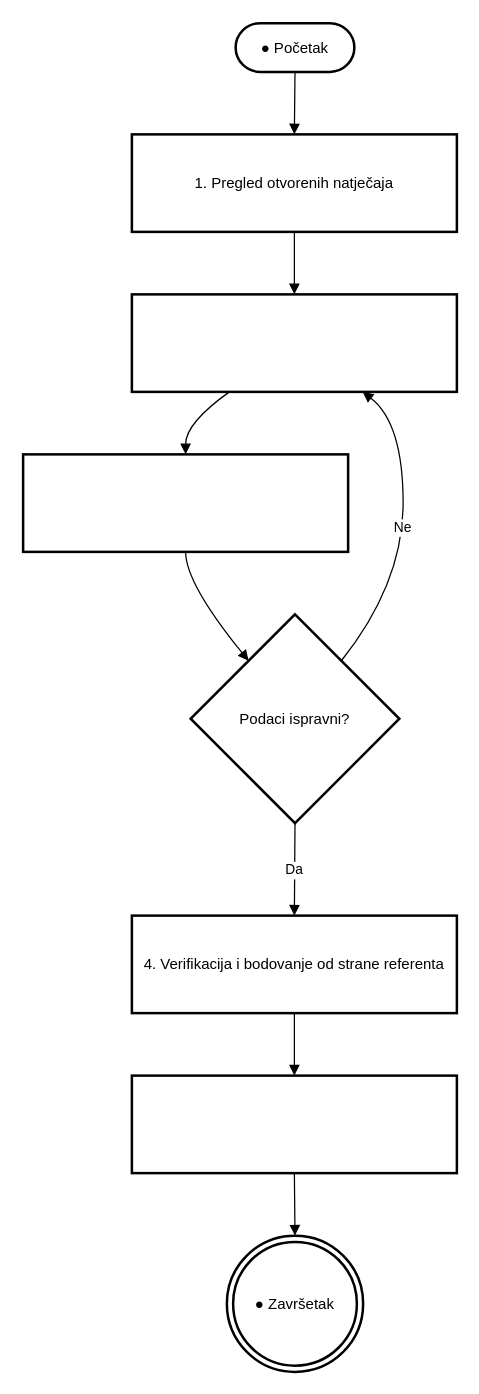
Image size: 479x1394. Some labels were removed from this diagram. The shapes that lost their labels are listed below. From the top down, each one's box as (x1, y1, x2, y2) in pixels, then its label:
(130, 292, 458, 392): 2. Popunjavanje obrasca i privitak dokumenata
(21, 452, 349, 552): 3. Validacija i spremanje prijave
(130, 1074, 458, 1174): 5. Generiranje i objava bodovne liste
